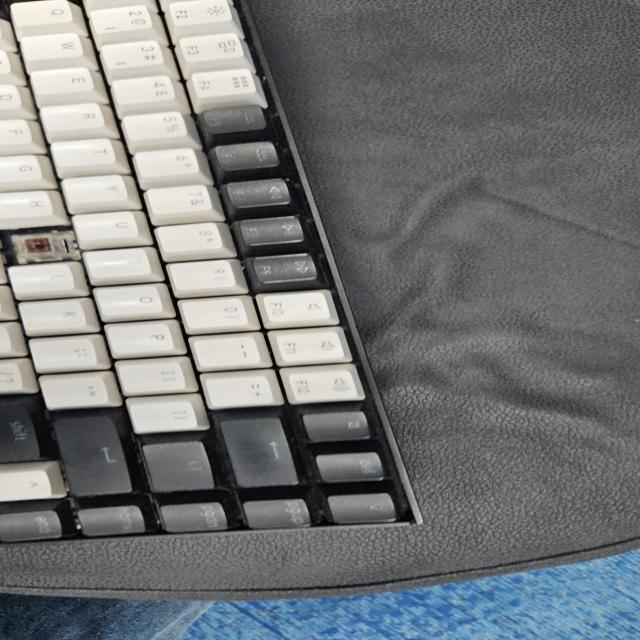C: (10, 232, 74, 260)
